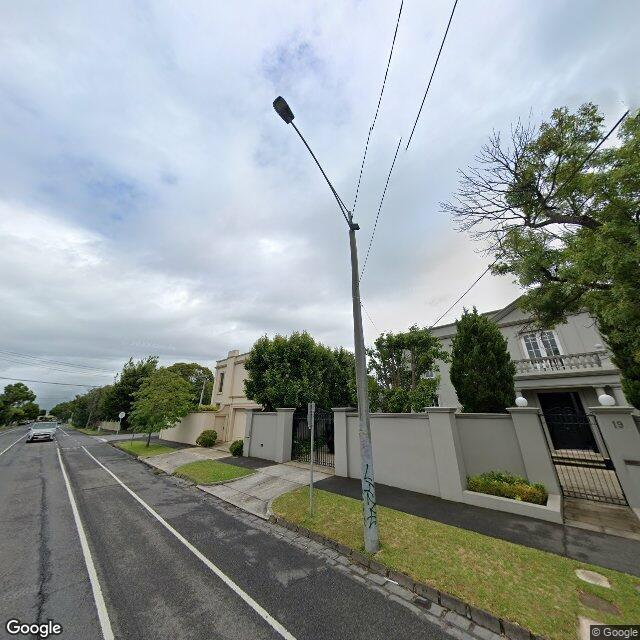streetlight: (272, 96, 352, 230)
timber-pole: (349, 230, 378, 553)
